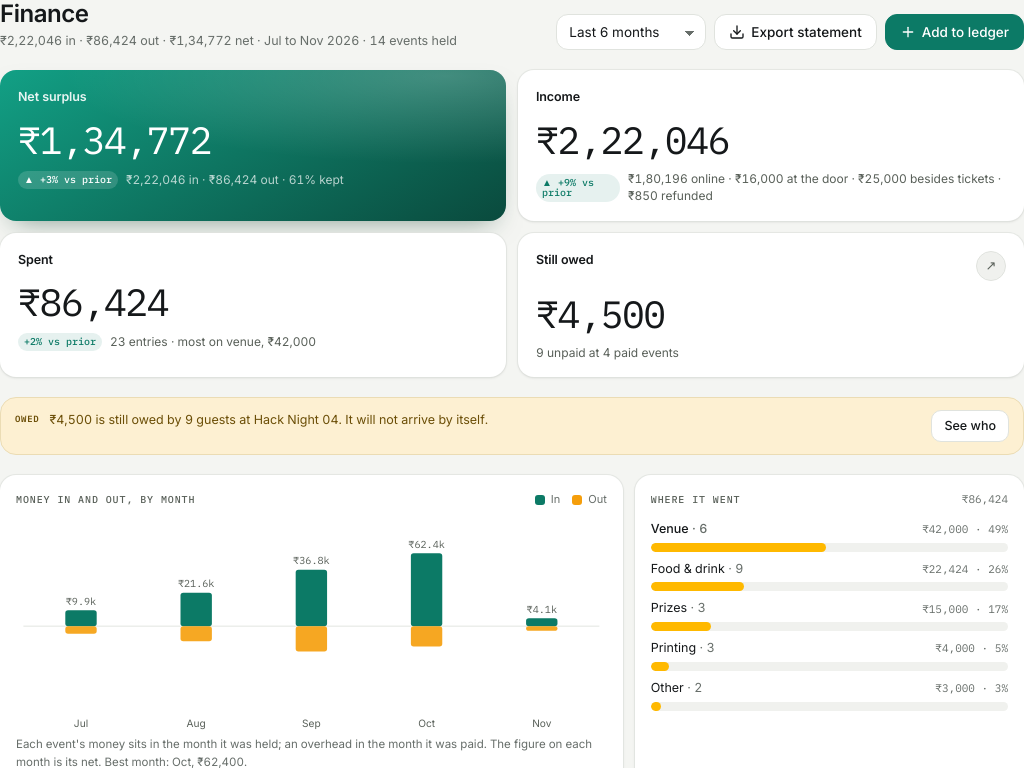
finance › logs an expense in a dialog, and refuses one without a title
Check: the text "Net surplus" is shown, box [18,88,86,107]
Click the button "Add to ledger" at (954, 32), box [885,14,1023,50]
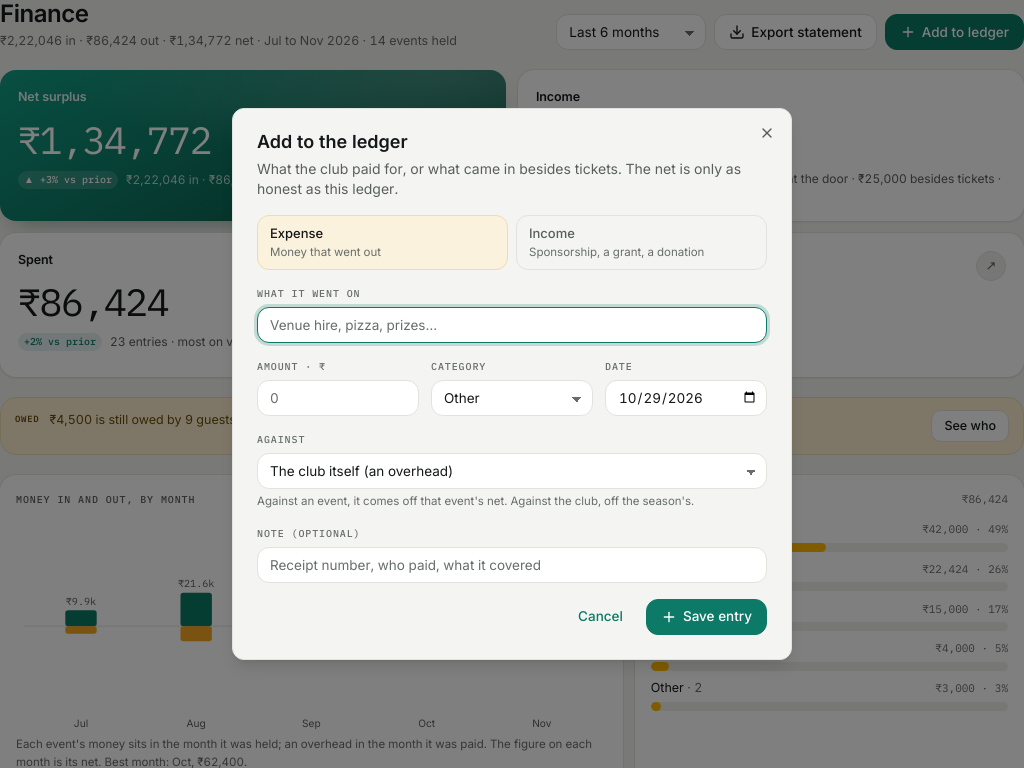
Click the button "Save entry" at (706, 617), box [646,599,767,635]
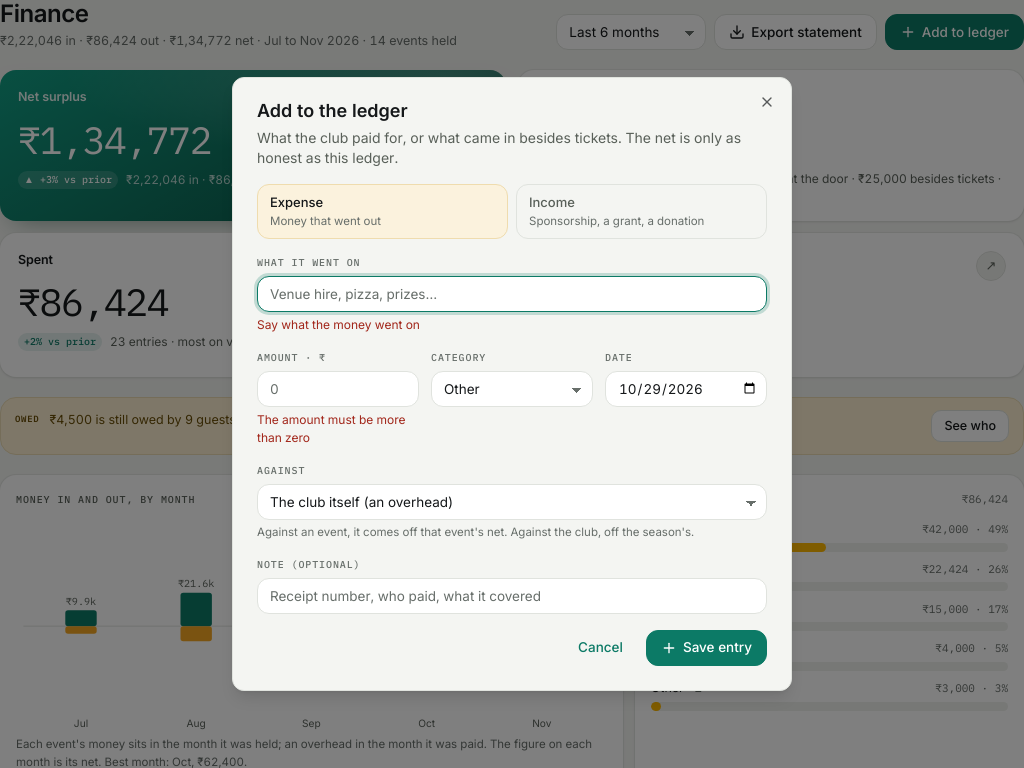
Check: the text "Say what the money went on" is shown, box [257,317,420,332]
Type "Banner print" into the field labelled "What it went on" at (512, 294), box [257,276,767,312]
Select "Printing" in the dropdown labelled "Category" at (512, 389), box [431,371,593,407]
Type "1200" into the field labelled "Amount · ₹" at (338, 389), box [257,371,419,407]
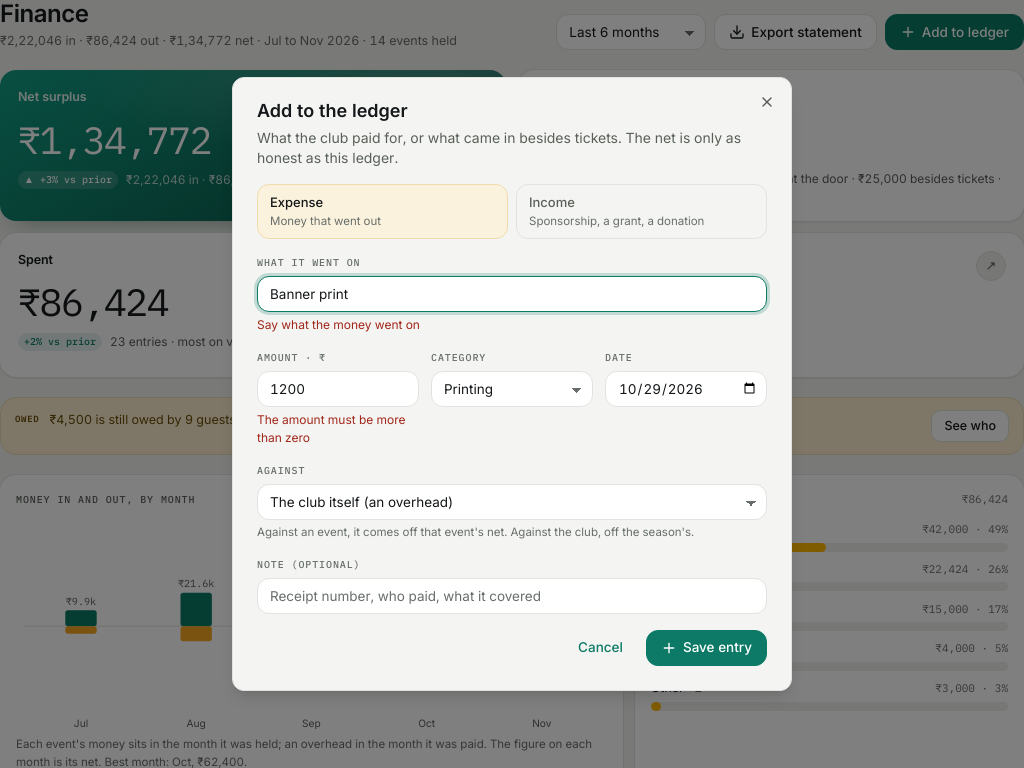
Type "2026-10-10" into the date field labelled "Date" at (686, 389), box [605,371,767,407]
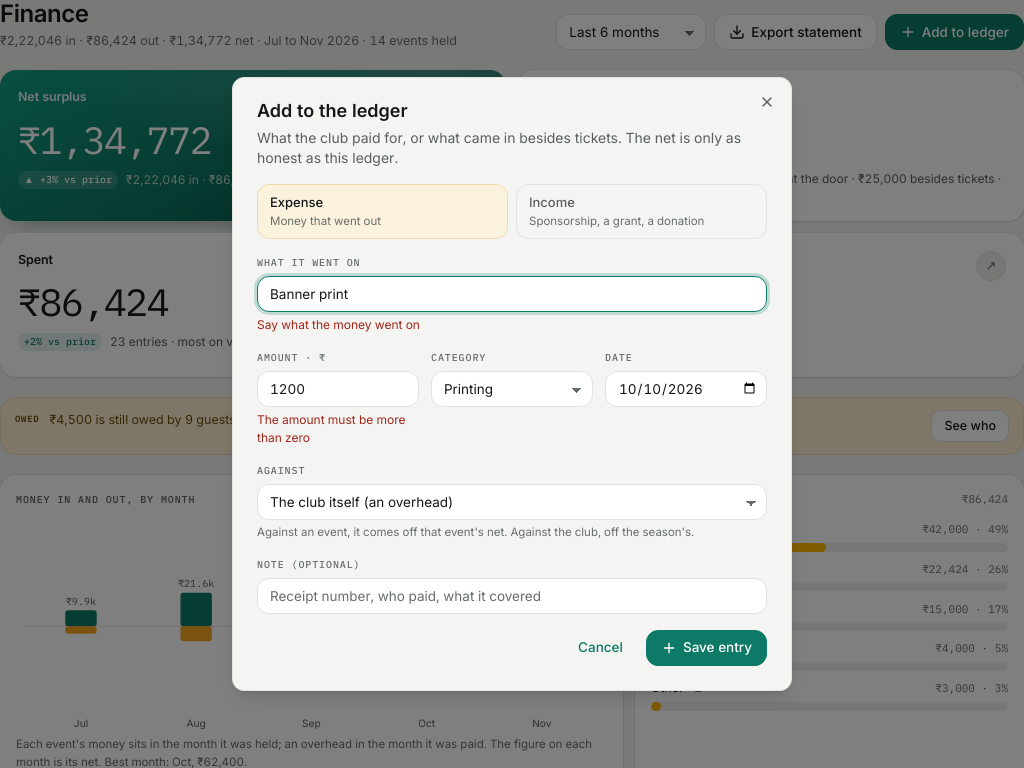
Select "Hack Night 04" in the dropdown labelled "Against" at (512, 502), box [257,484,767,520]
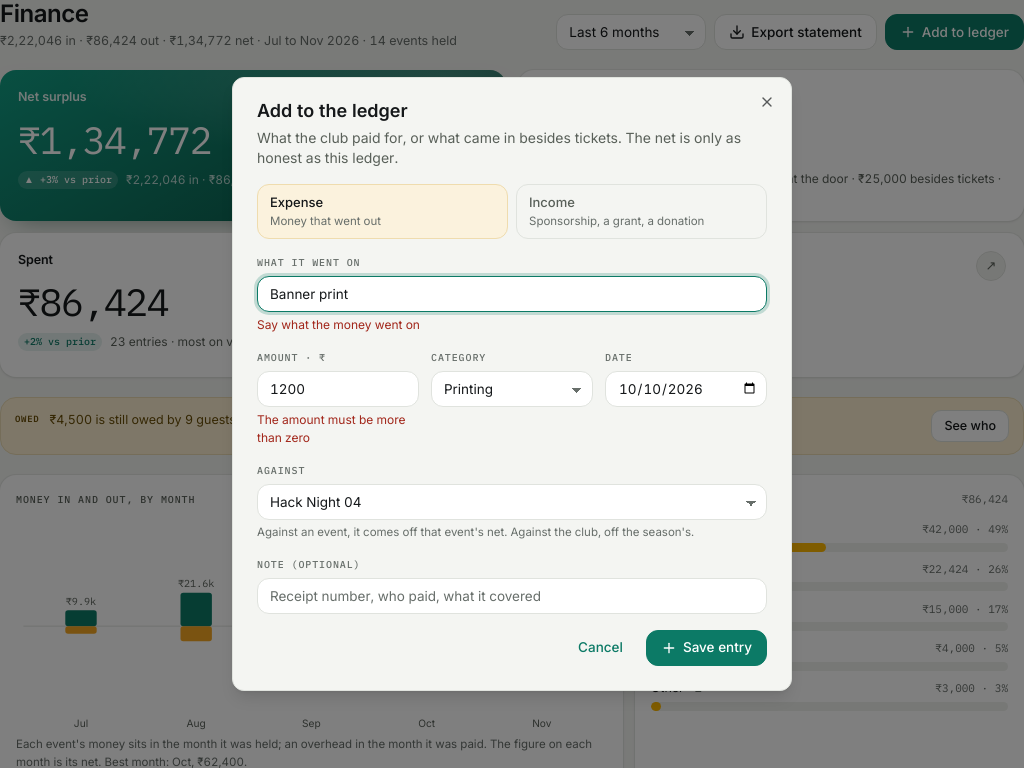
Click the button "Save entry" at (706, 648), box [646,630,767,666]
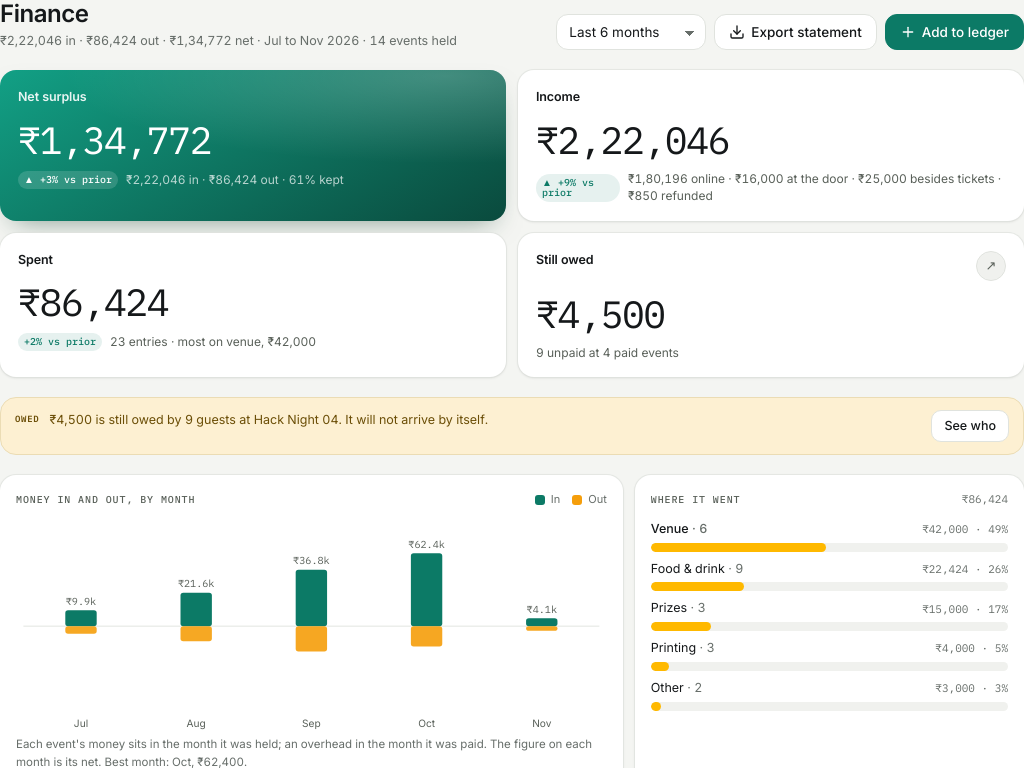
Check: the dialog is gone
